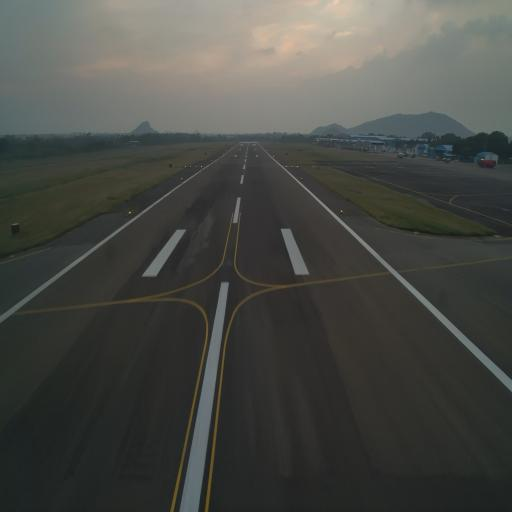on: (340, 207, 344, 216), (128, 210, 132, 217)
